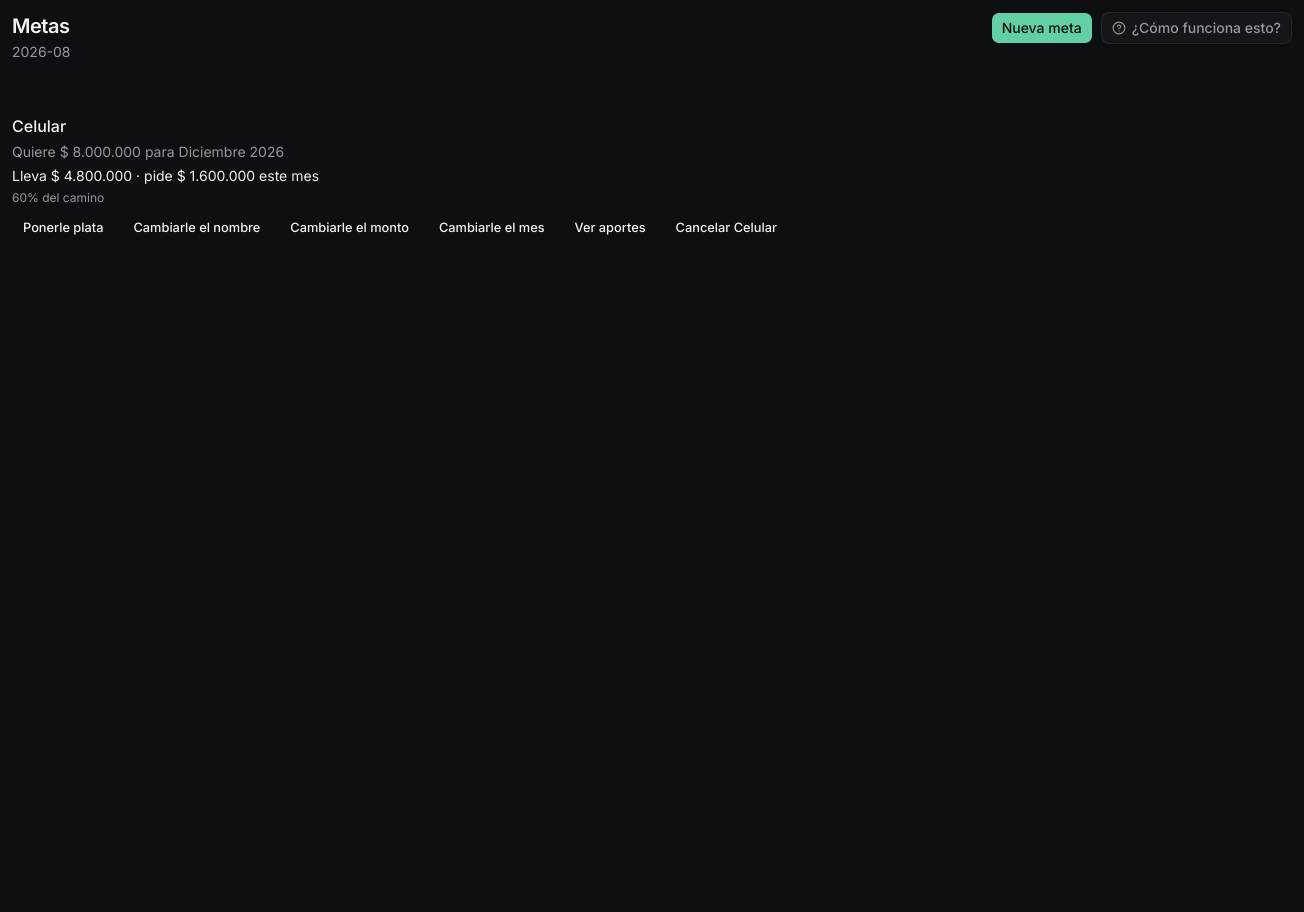
it: AC-45 — the form says what the meta will ask before it is created › The create button says what it is about to do
This screenshot has width=1304, height=912.
expect the text "Celular" is shown: met, box [12, 114, 66, 138]
Step 1. Click the button "Nueva meta" → (1042, 28), box [991, 12, 1093, 44]
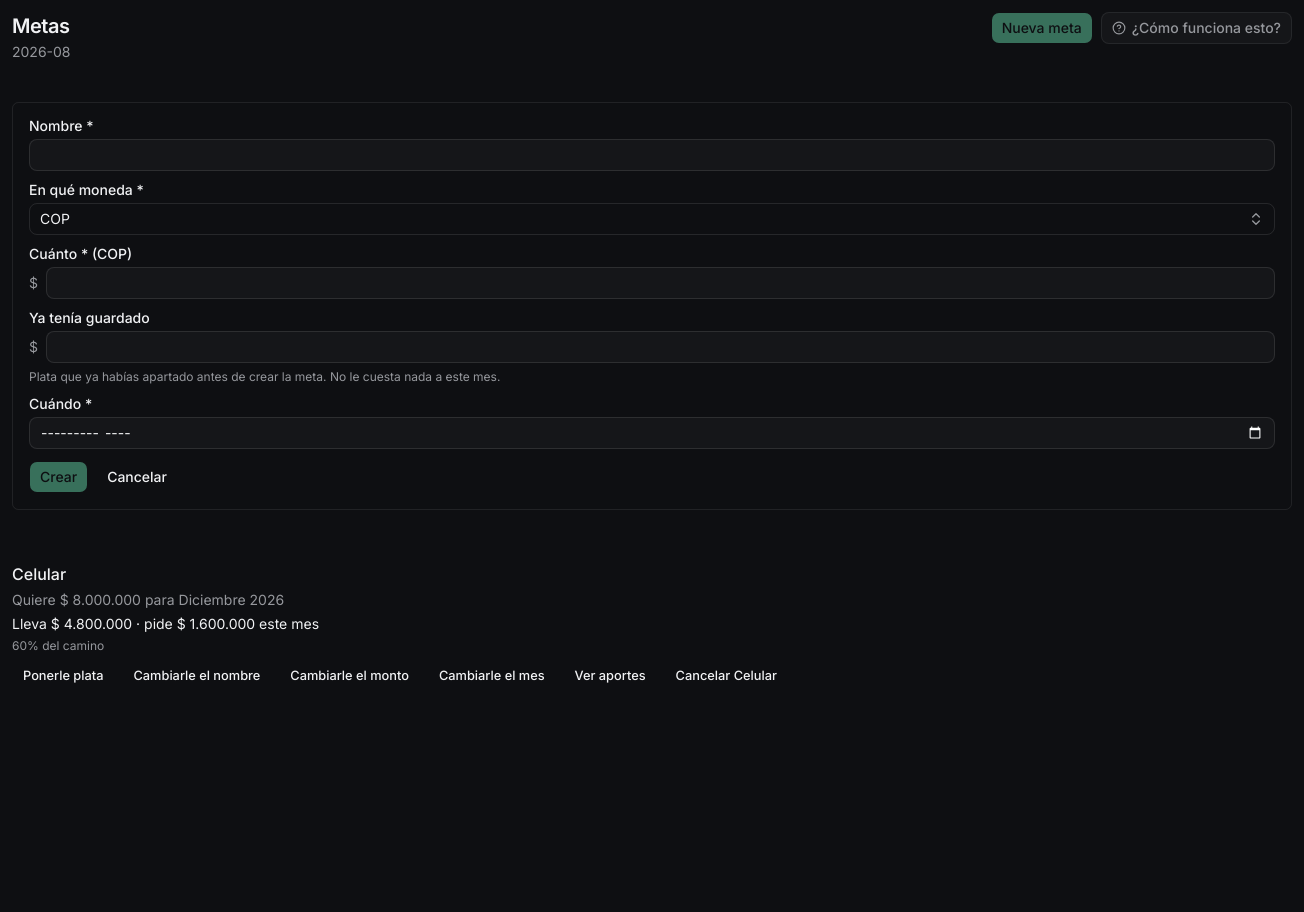
Step 2. Type "Casa" into the field labelled "Nombre *" → (652, 155), box [29, 139, 1275, 171]
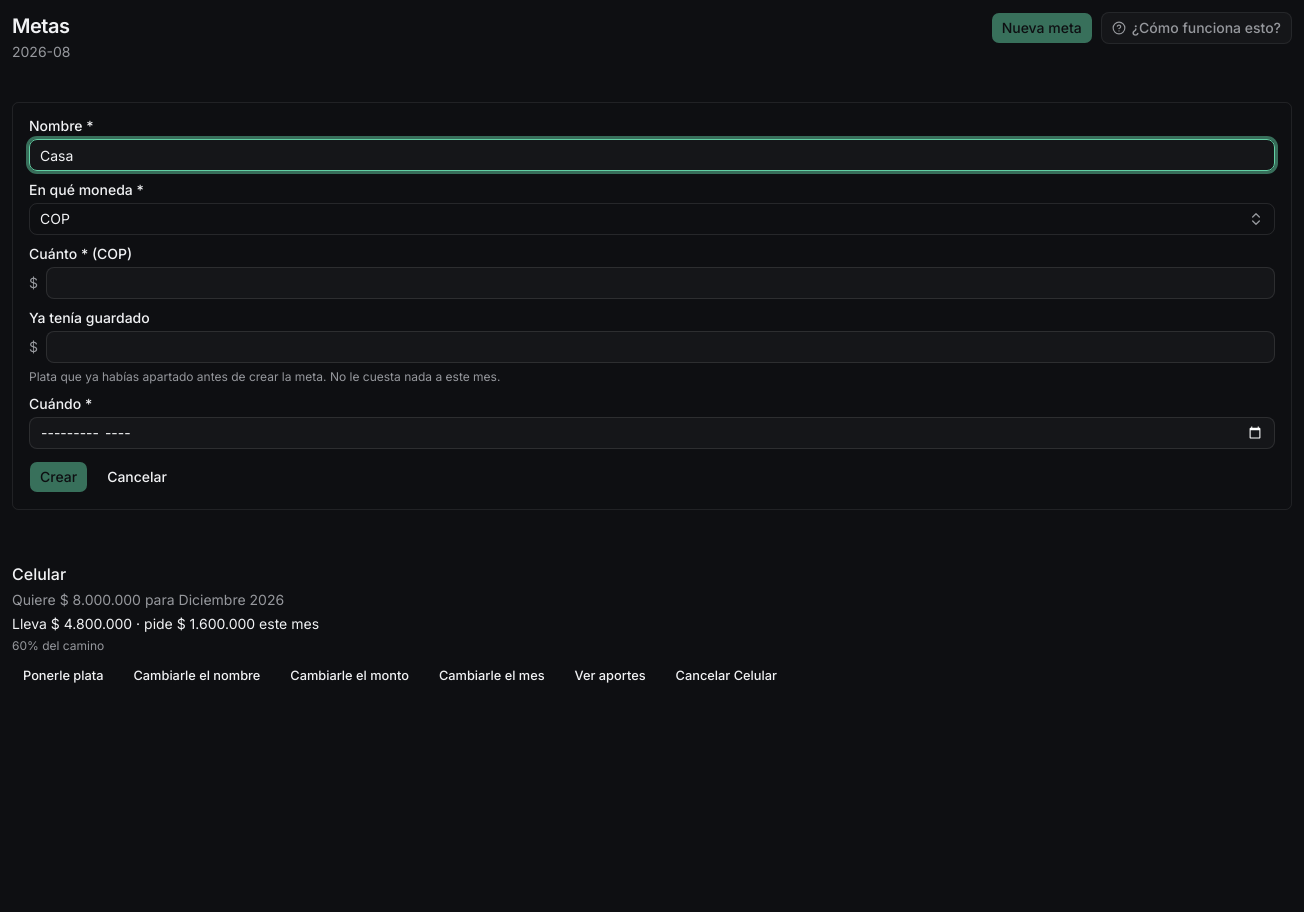
Step 3. Type "80000000" into the field labelled "Cuánto * (COP)" → (660, 283), box [46, 267, 1275, 299]
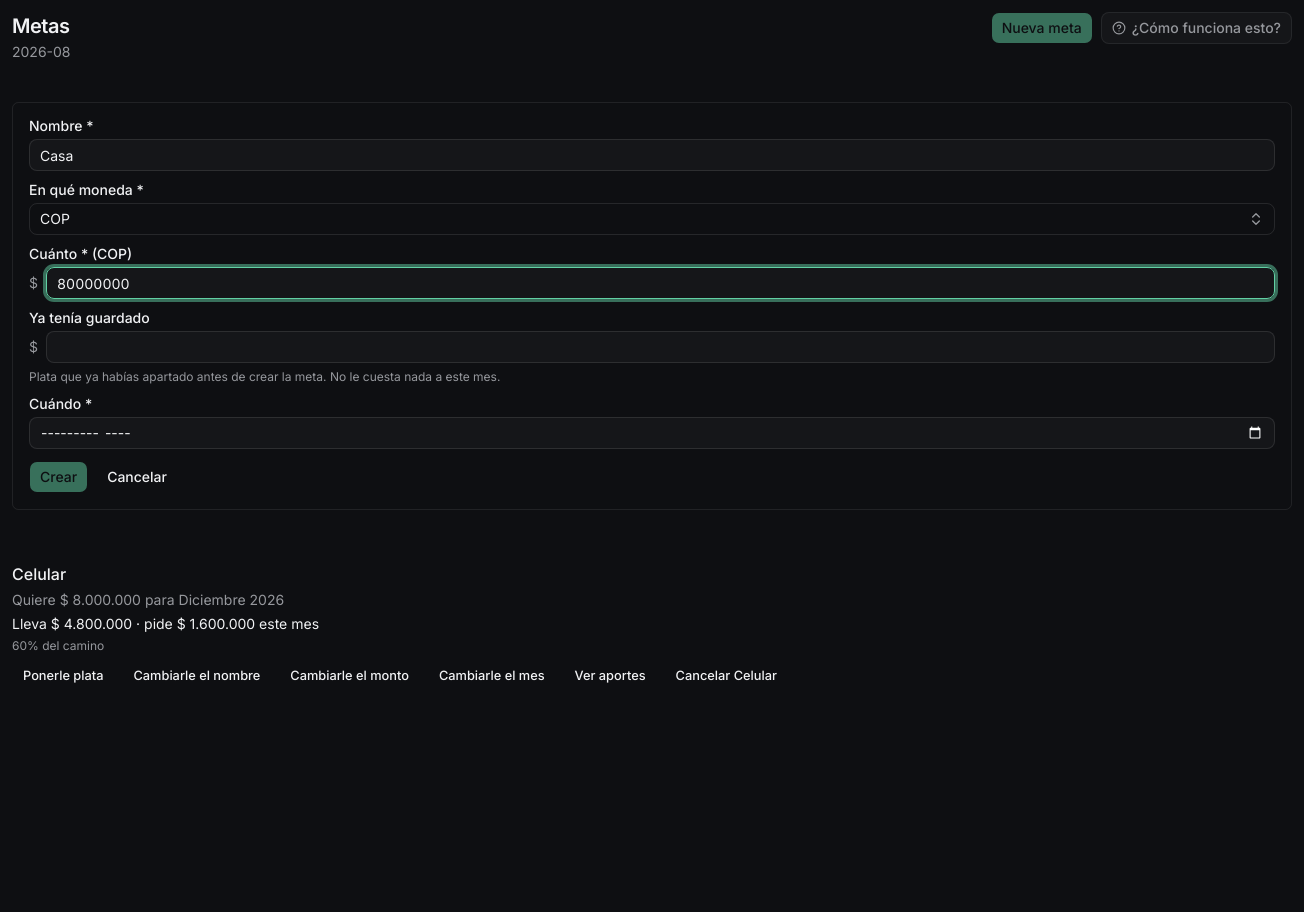
Step 4. Type "2026-09" into the field labelled "Cuándo *" → (652, 433), box [29, 417, 1275, 449]
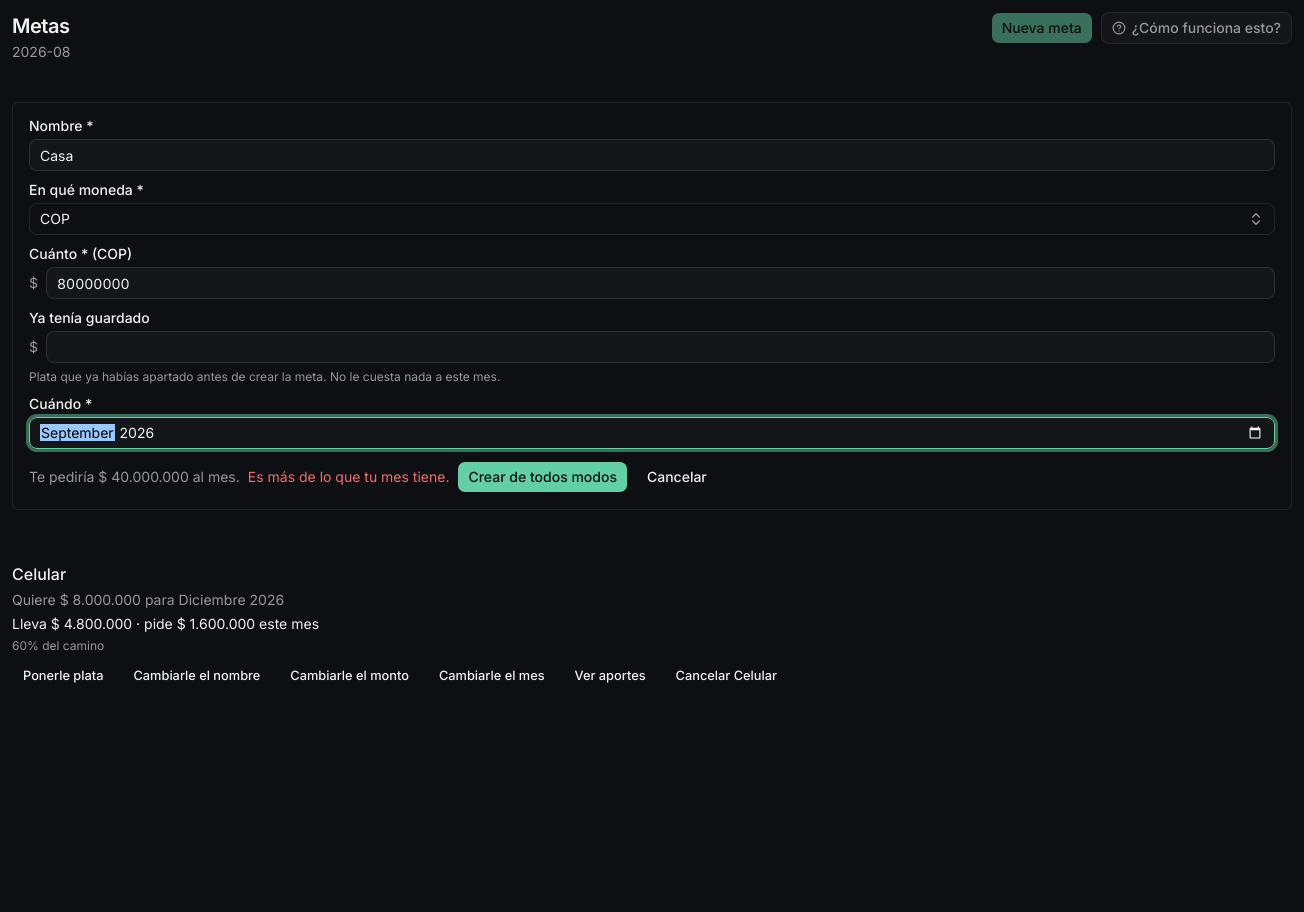
expect the text "Te pediría $ 40.000.000 al mes." is shown: met, box [29, 467, 240, 487]
expect the message shows "más de lo que tu mes tiene": met, box [248, 468, 450, 485]
expect the button "Crear de todos modos" is shown: met, box [458, 461, 628, 493]
